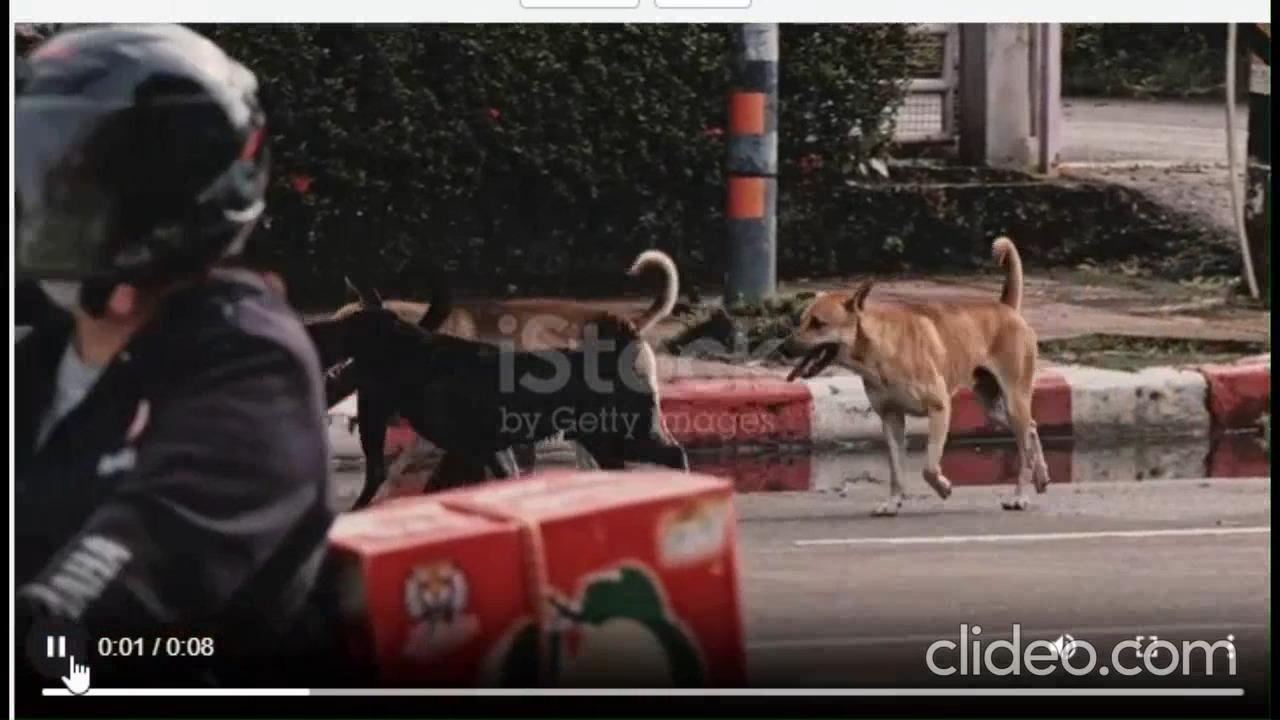dog: (776, 230, 1046, 516), (304, 285, 681, 483)
